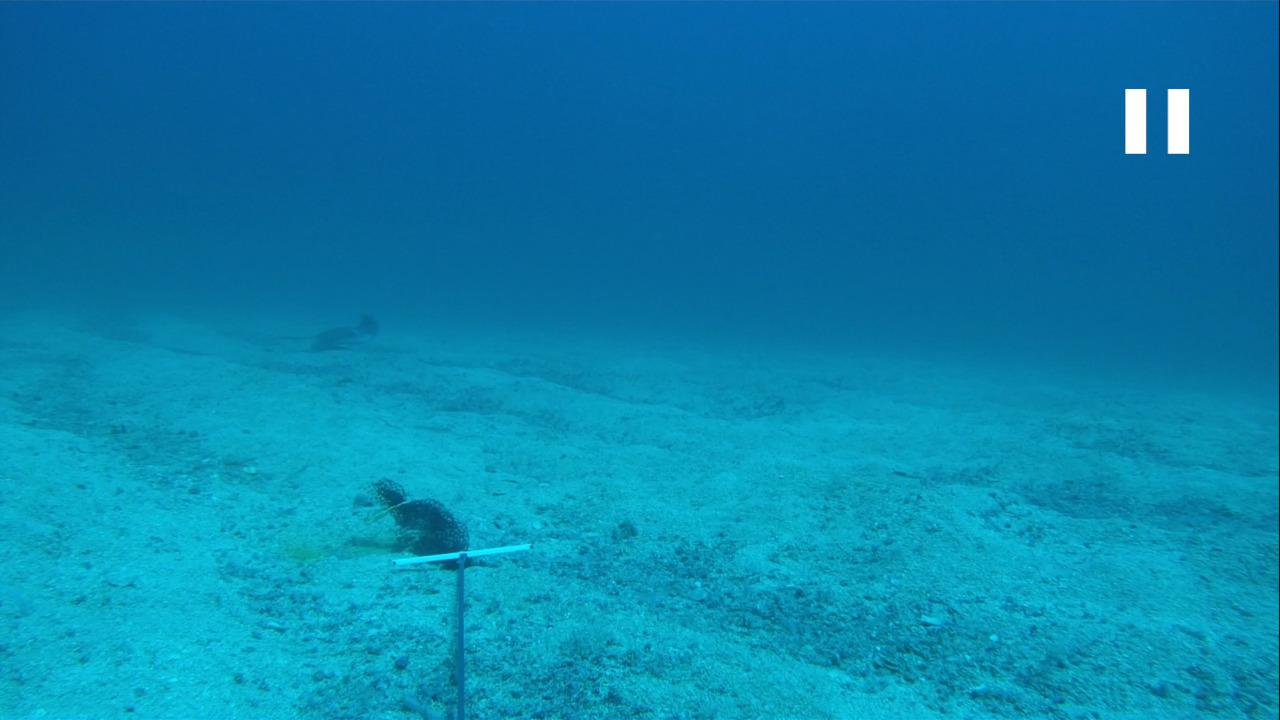myliobatis: (245, 307, 394, 358)
